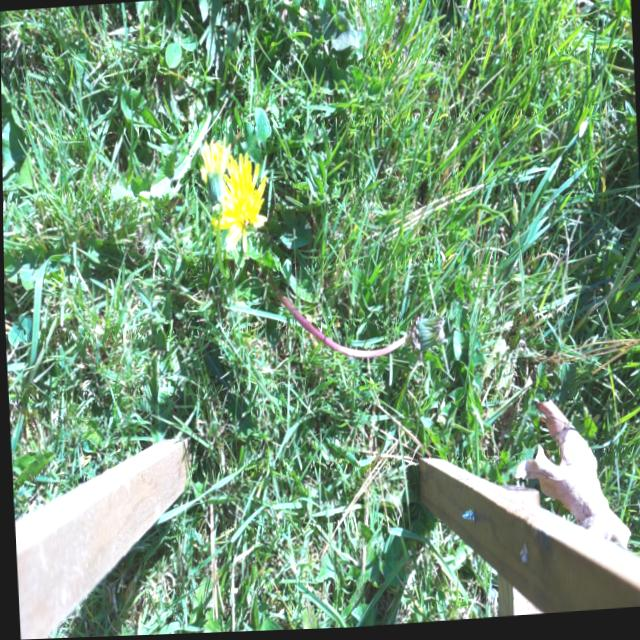base: (211, 247, 238, 281), (258, 262, 277, 293)
